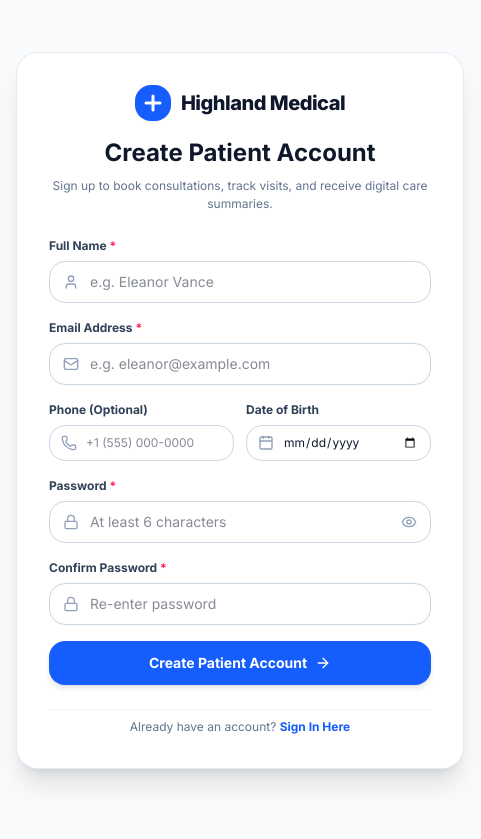
client page flows › validates matching signup passwords before making a request
Type "Eleanor Vance" into the field with placeholder "e.g. Eleanor Vance" at coordinates (240, 282), box [49,260,431,302]
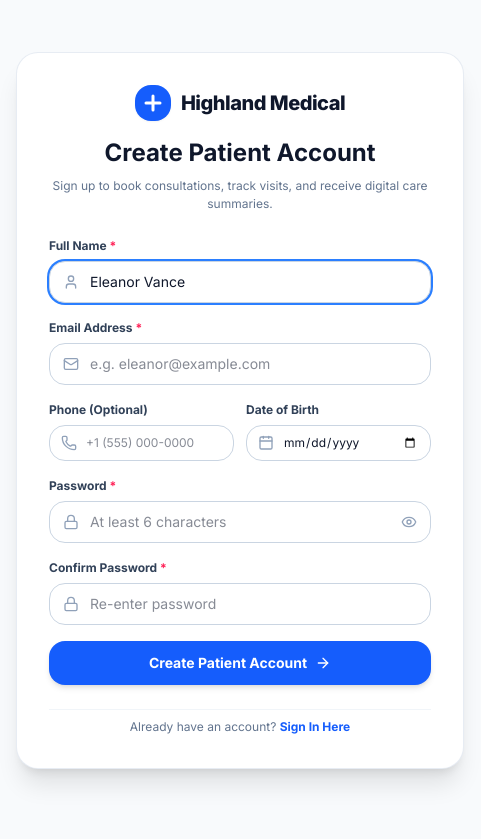
Type "eleanor@example.com" into the field with placeholder "e.g. eleanor@example.com" at coordinates (240, 364), box [49,342,431,384]
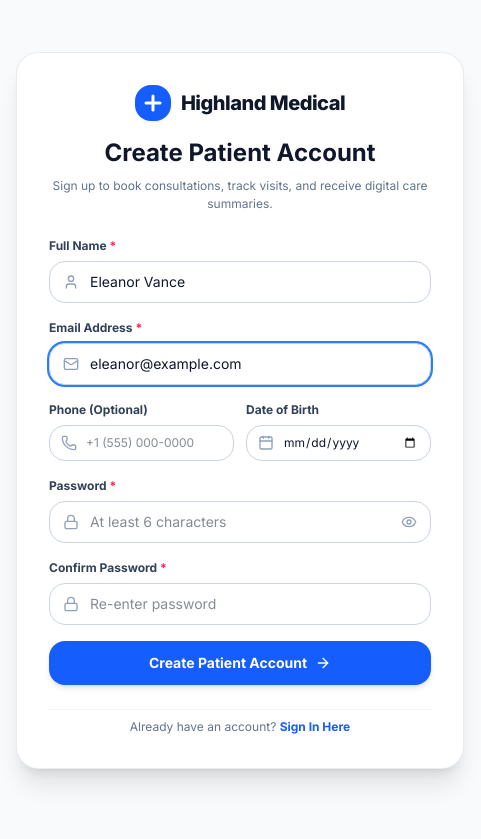
Type "secret1" into the password field with placeholder "At least 6 characters" at coordinates (240, 522), box [49,500,431,542]
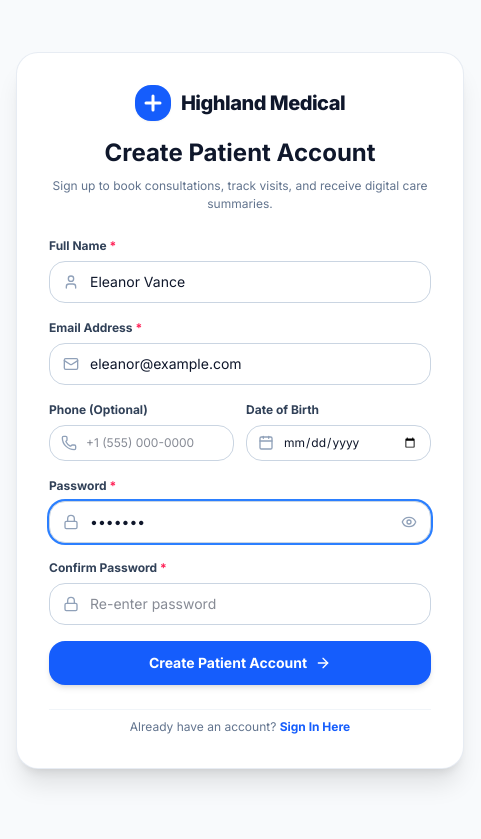
Type "secret2" into the password field with placeholder "Re-enter password" at coordinates (240, 604), box [49,582,431,624]
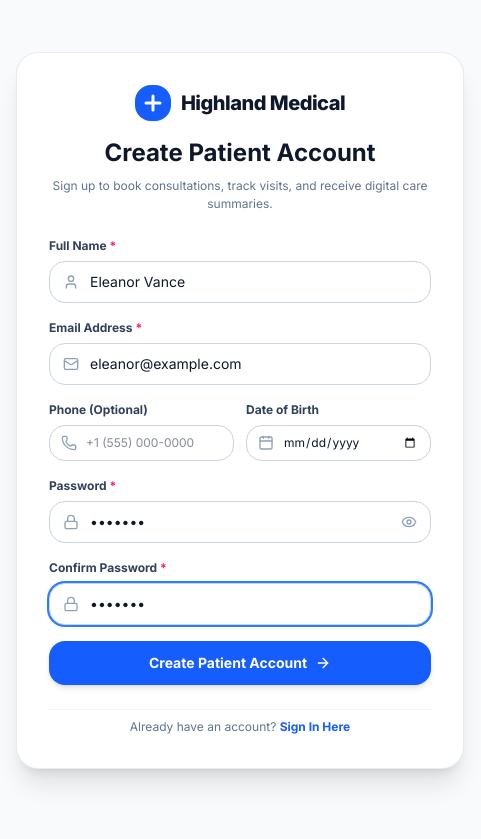
Click the button "Create Patient Account" at coordinates (240, 662), box [49,640,431,684]
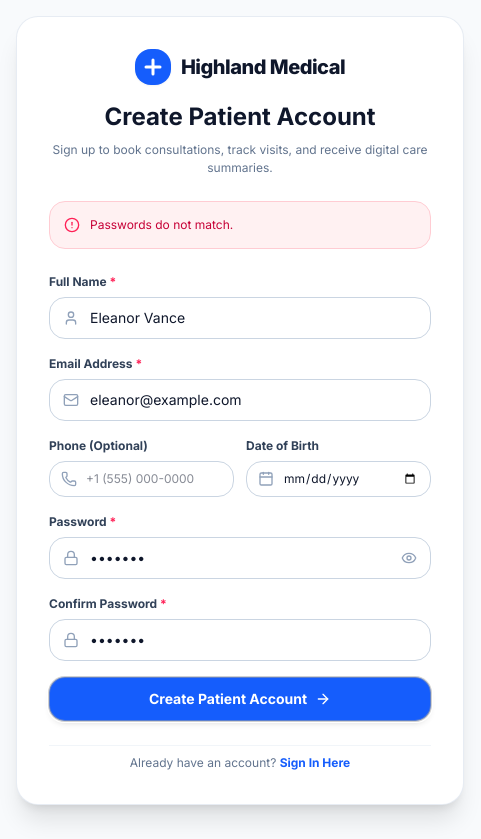
Now the text "Passwords do not match." is shown, box [90,216,233,234]
